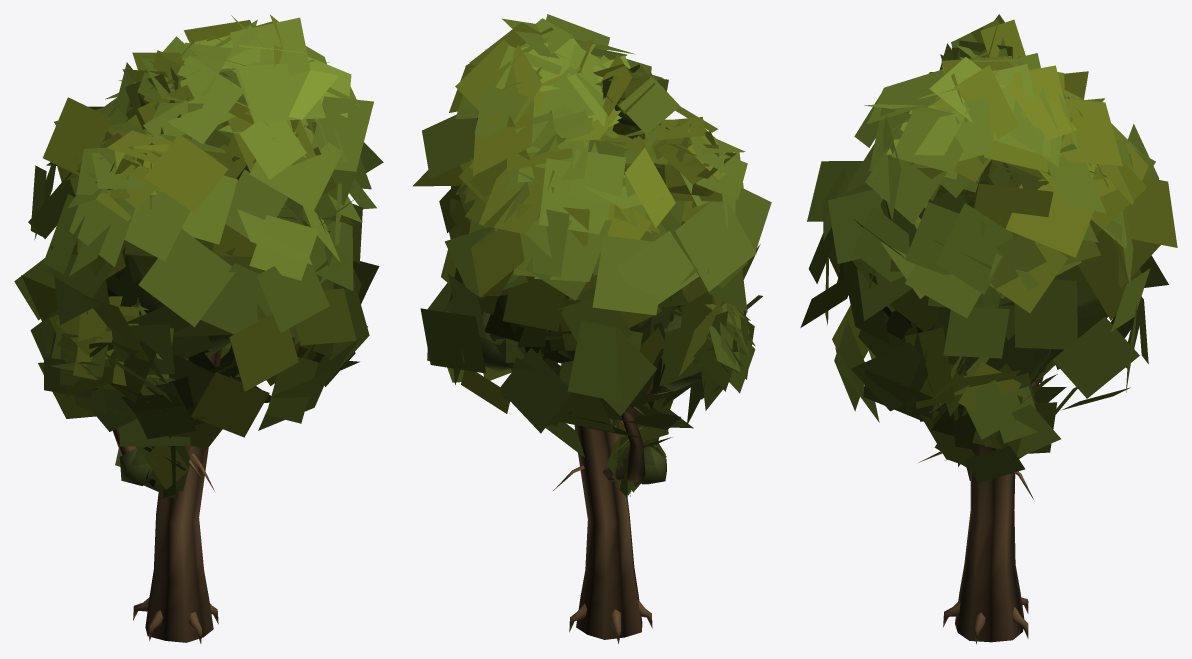
File: tree-05.glb
3 views of the same model, side by side, from view 1: azimuth 30°, elevation 25°; view 2: azimuth 150°, elevation 25°; view 3: azimuth 270°, elevation 25° (orthographic). The views are drawn at different scales.
Visible parts, largest first — view 1: tree-05; view 2: tree-05; view 3: tree-05.
Boxes of the visible parts, x1,y1,x2,y2 form: tree-05: (14,14,383,643); tree-05: (413,14,771,643); tree-05: (800,14,1177,644).
Bounding box in the file's own units: 3.13 × 5.48 × 3.08.
